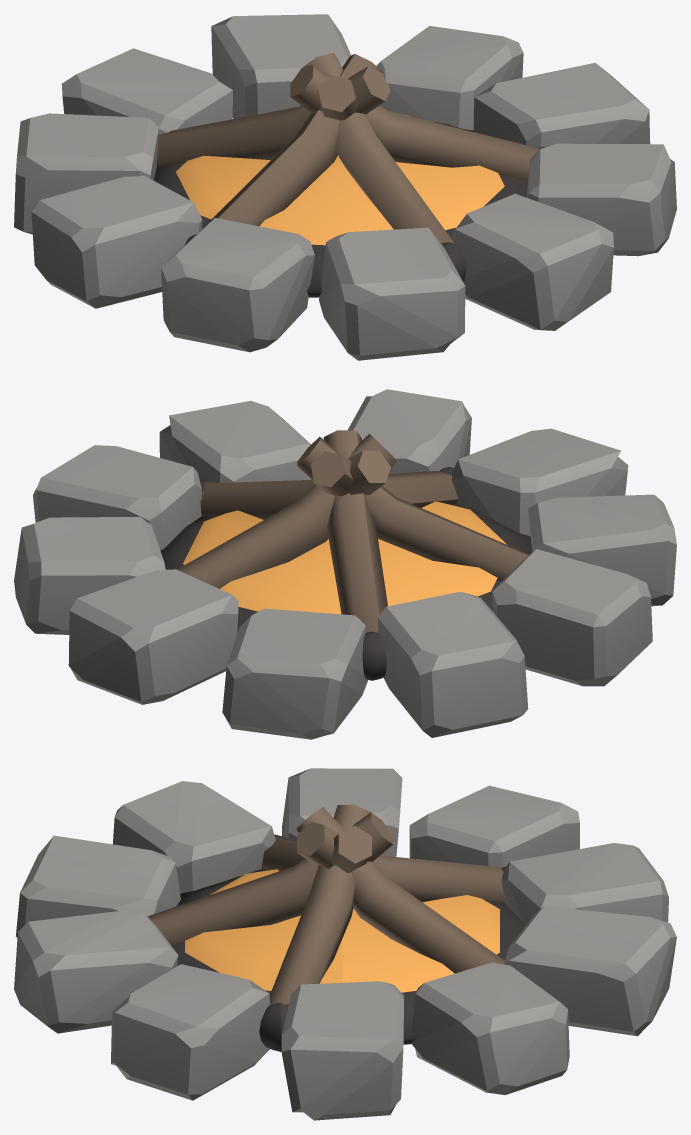
The model's file is feuerstelle.glb.
3 renders of one model, top to bottom at view 1: azimuth 30°, elevation 25°; view 2: azimuth 150°, elevation 25°; view 3: azimuth 270°, elevation 25°, orthographic.
Visible parts, largest first — view 1: G_feuerstelle; view 2: G_feuerstelle; view 3: G_feuerstelle.
Boxes of the visible parts, box(x1,y1,x2,y2) form: G_feuerstelle: box(14, 14, 676, 360); G_feuerstelle: box(14, 389, 676, 739); G_feuerstelle: box(14, 768, 676, 1120).
Size of the model in its own units: 2 by 0.5612 by 2.
